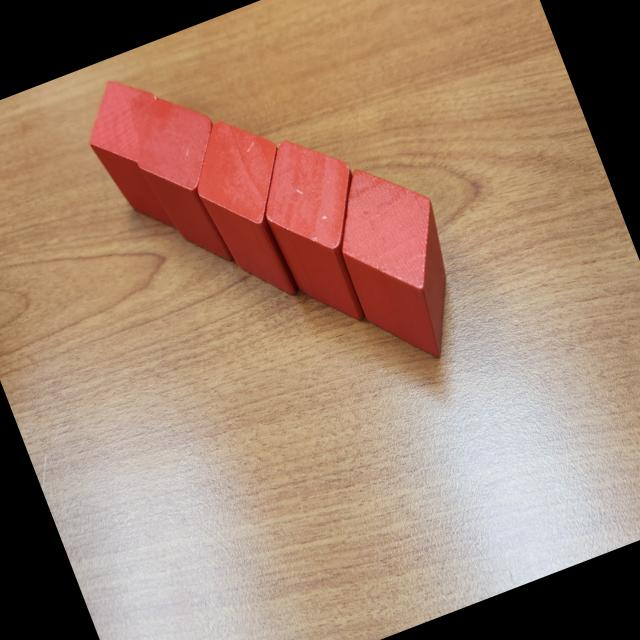red: (342, 168, 447, 357), (266, 141, 365, 324), (198, 122, 298, 296), (138, 97, 233, 264), (90, 80, 177, 227)
